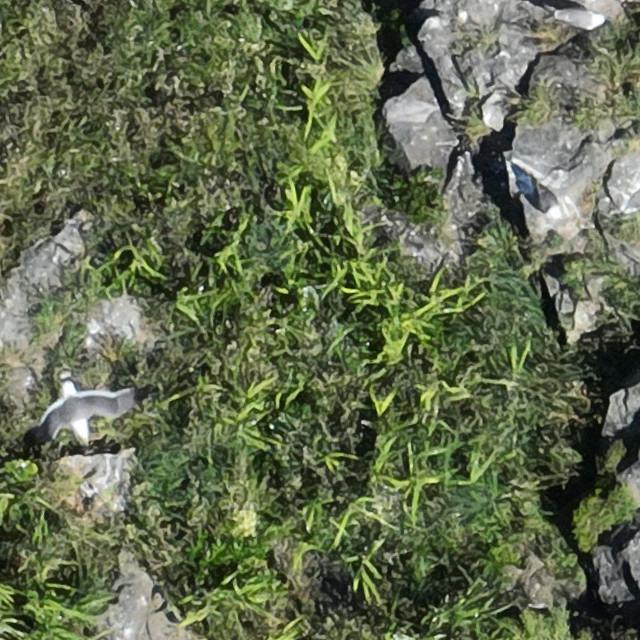F: (39, 381, 128, 433)
umineko: (532, 179, 559, 221), (562, 11, 603, 29)
